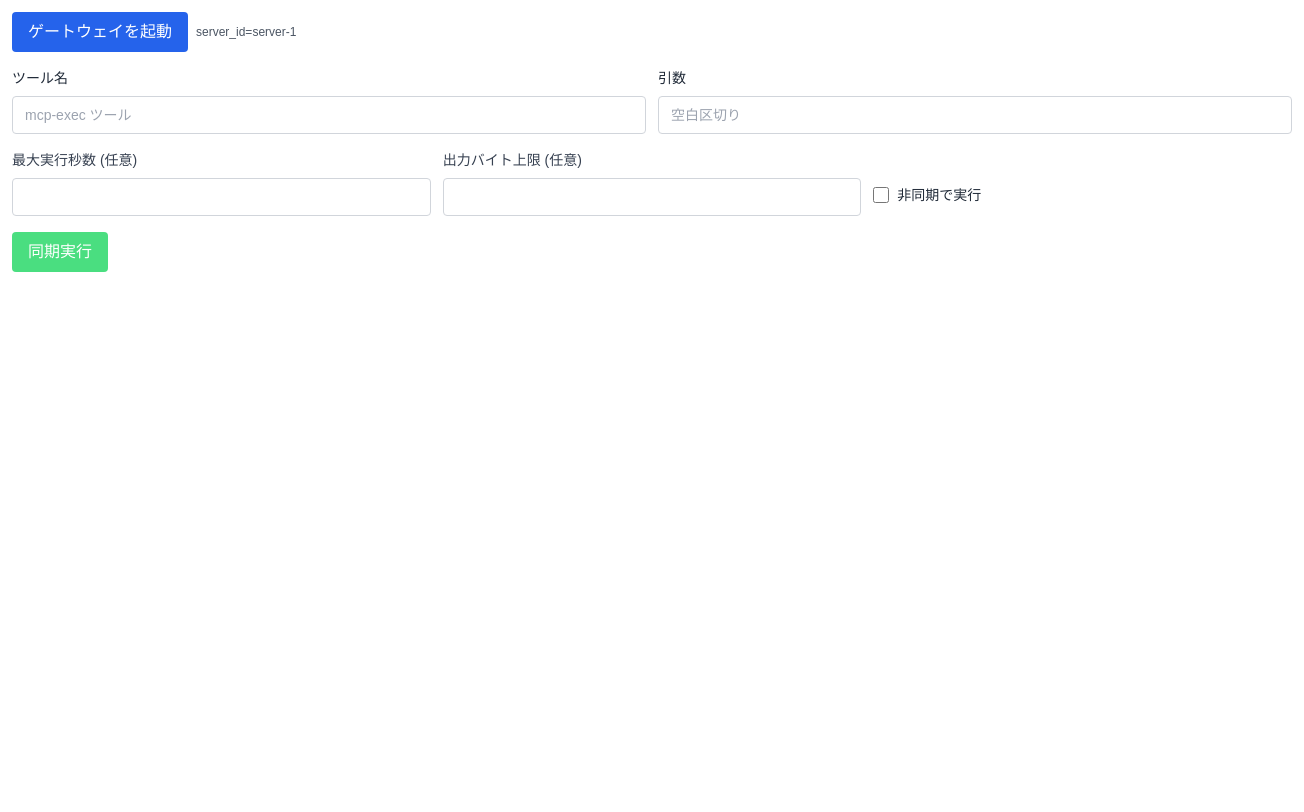
Test: SessionExecutionPanel › runs sync exec and shows timeout/truncate flags
Click the button "ゲートウェイを起動" at (100, 32), box 12,12 -> 188,52
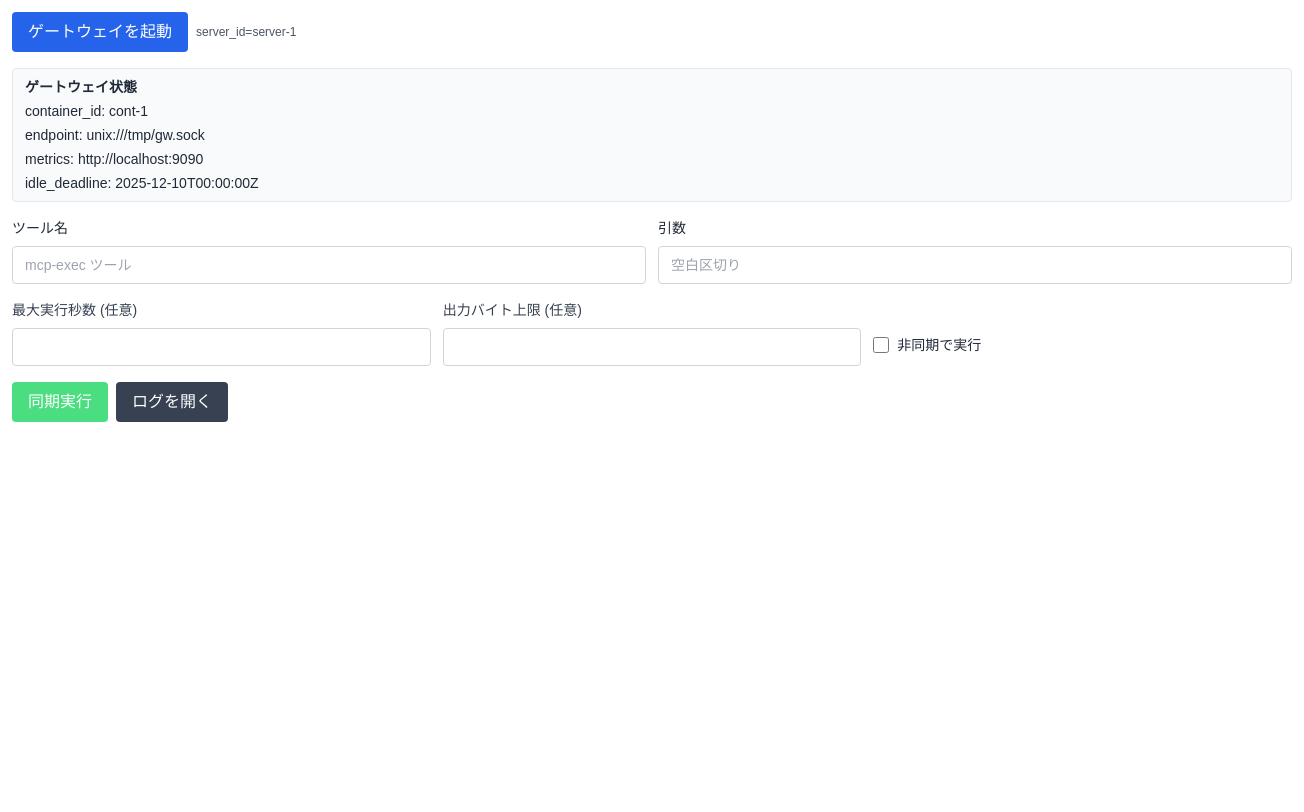
Result: the text "endpoint: unix:///tmp/gw.sock" is shown at 25,127 -> 205,143
Type "ping" into the field labelled "ツール名" at (329, 265), box 12,246 -> 646,284
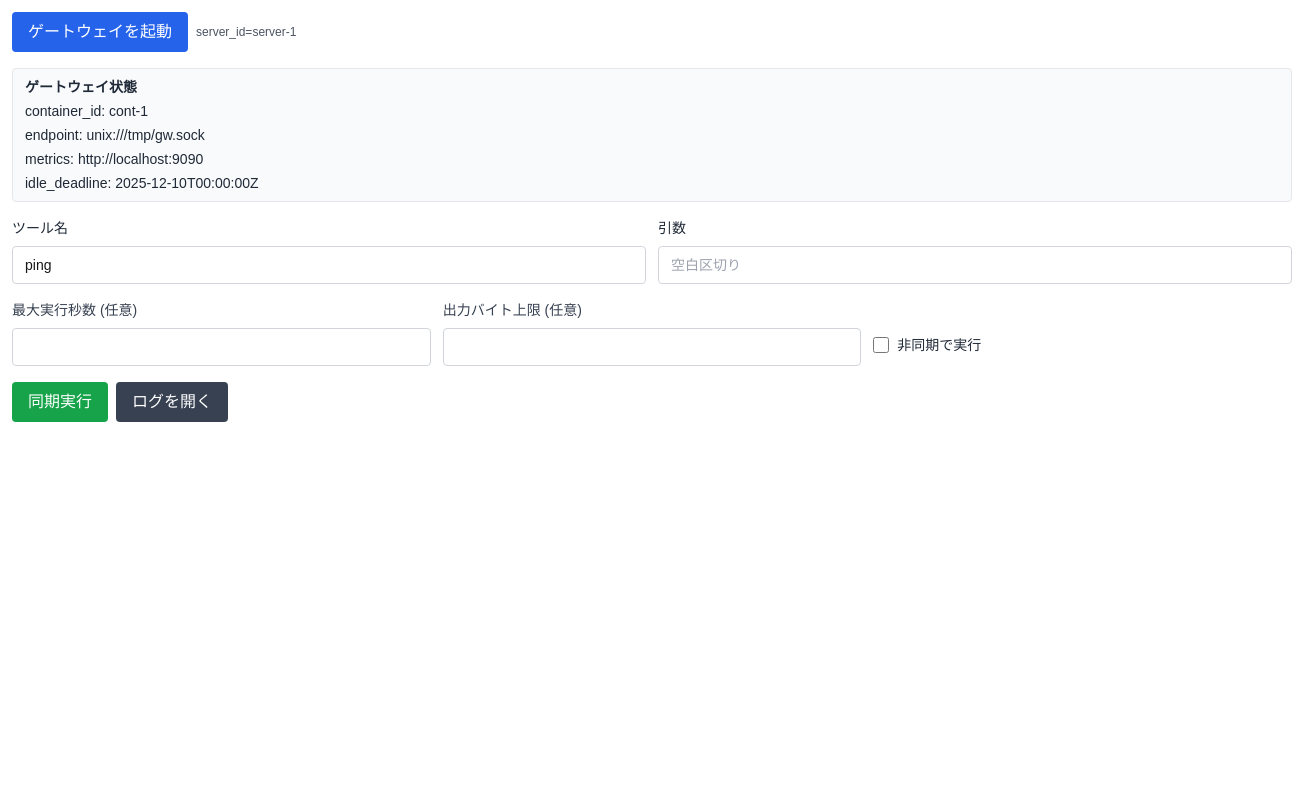
Type "localhost" into the field labelled "引数" at (975, 265), box 658,246 -> 1292,284
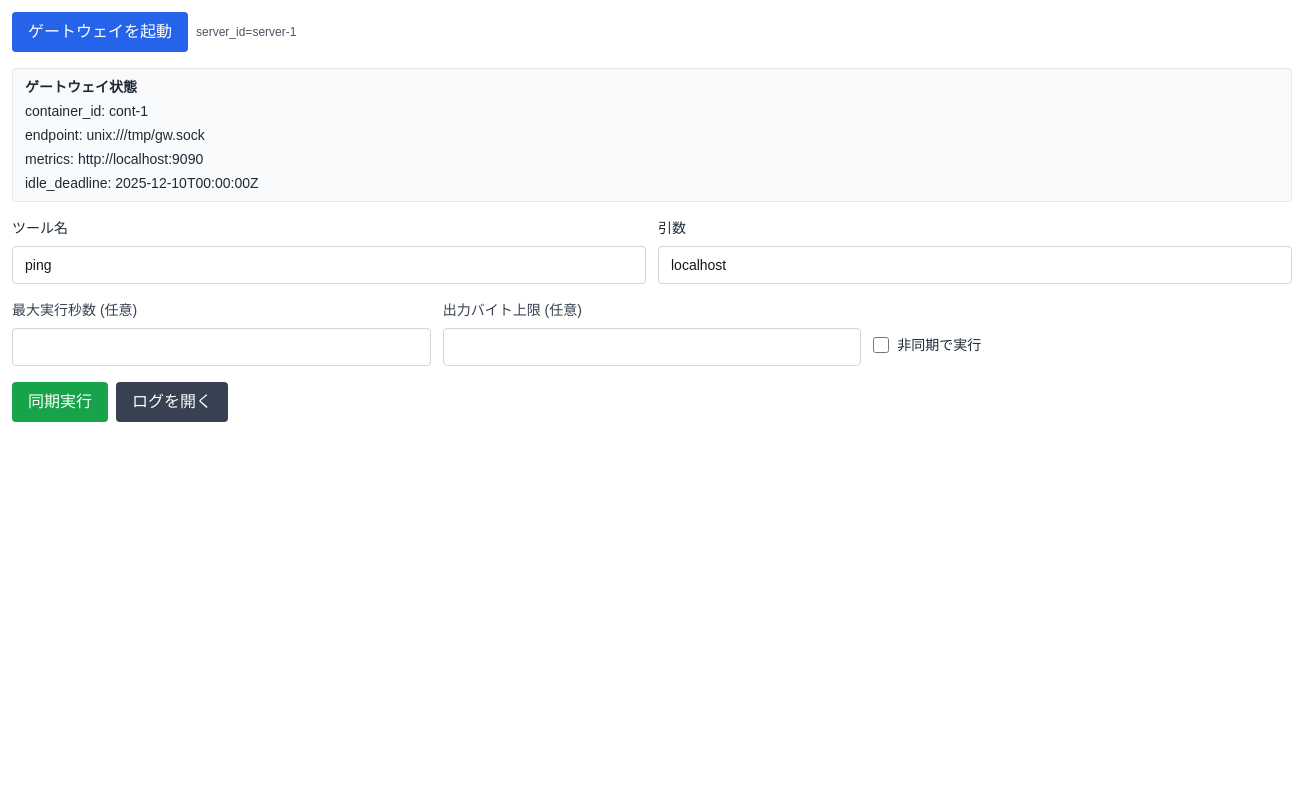
Click the button "同期実行" at (60, 402), box 12,382 -> 108,422
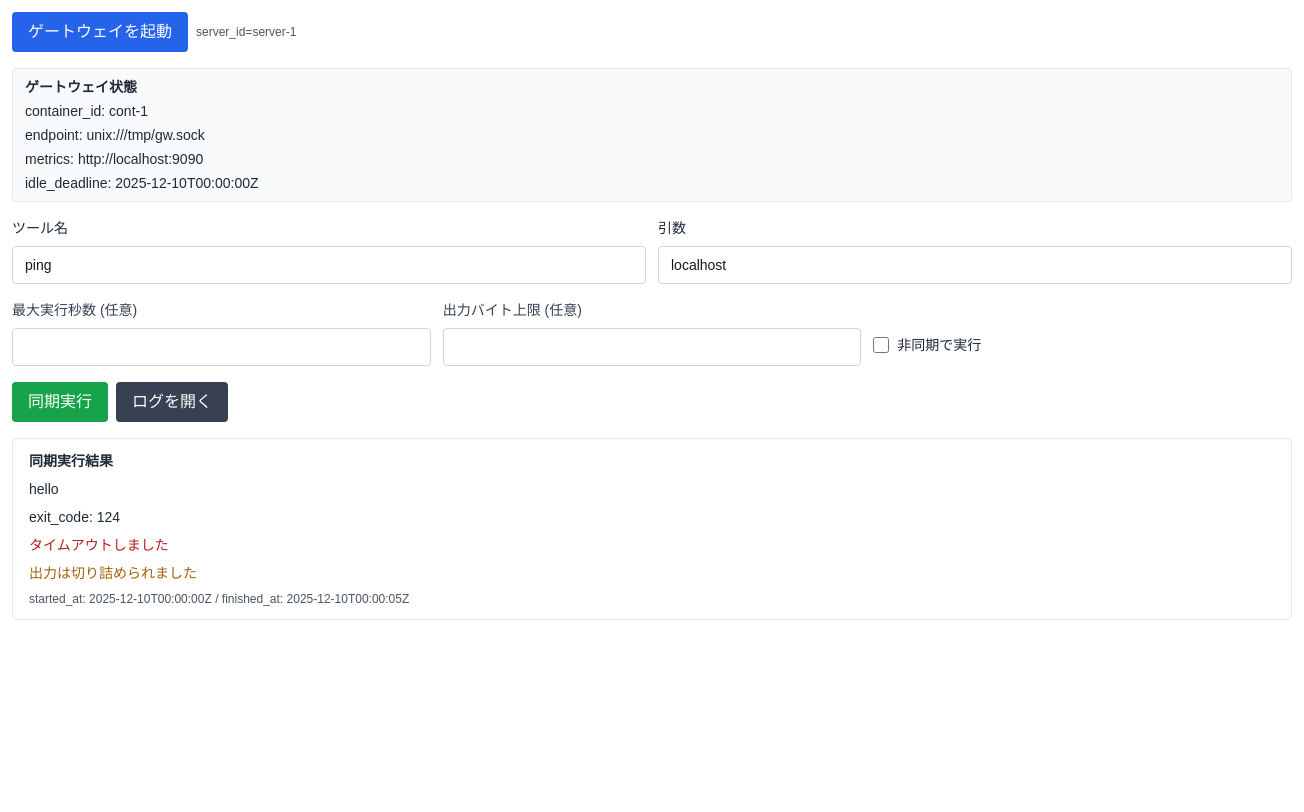
Result: the text "hello" is shown at 29,481 -> 59,497
Result: the text "タイムアウトしました" is shown at 29,537 -> 169,553
Result: the text "出力は切り詰められました" is shown at 29,565 -> 197,581
